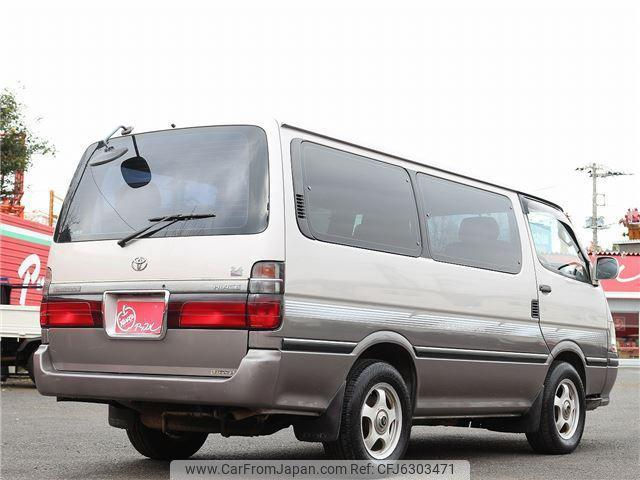Van: (39, 109, 619, 456)
